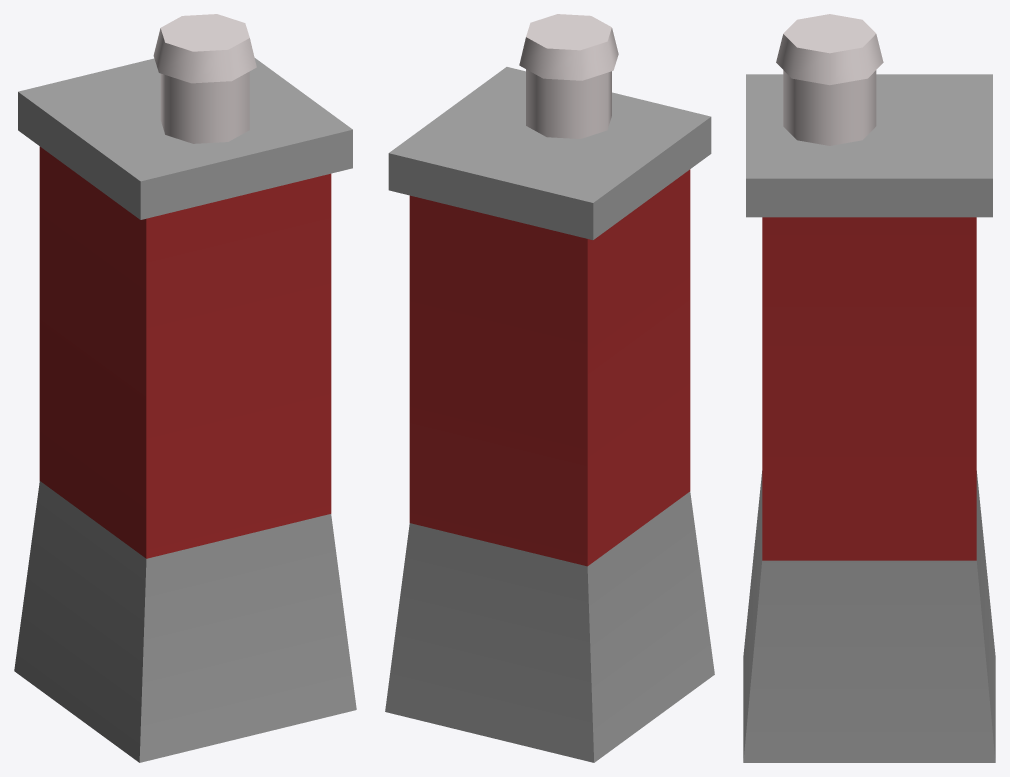
The model's file is Chimney 1.fbx.
The picture shows the model from 3 angles, left to right: view 1: azimuth 30°, elevation 25°; view 2: azimuth 150°, elevation 25°; view 3: azimuth 270°, elevation 25°; orthographic projection. The views are drawn at different scales.
Visible parts, largest first — view 1: Chimney; view 2: Chimney; view 3: Chimney.
Boxes of the visible parts, x1,y1,x2,y2 form: Chimney: (14, 14, 356, 762); Chimney: (385, 14, 714, 762); Chimney: (743, 14, 995, 762).
Bounding box in the file's own units: 0.3527 × 1.04 × 0.3527.
